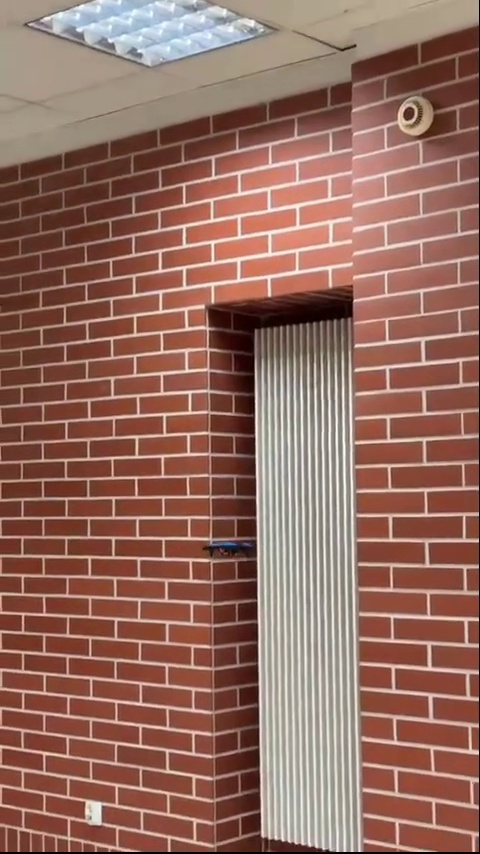drone: (201, 537, 259, 558)
